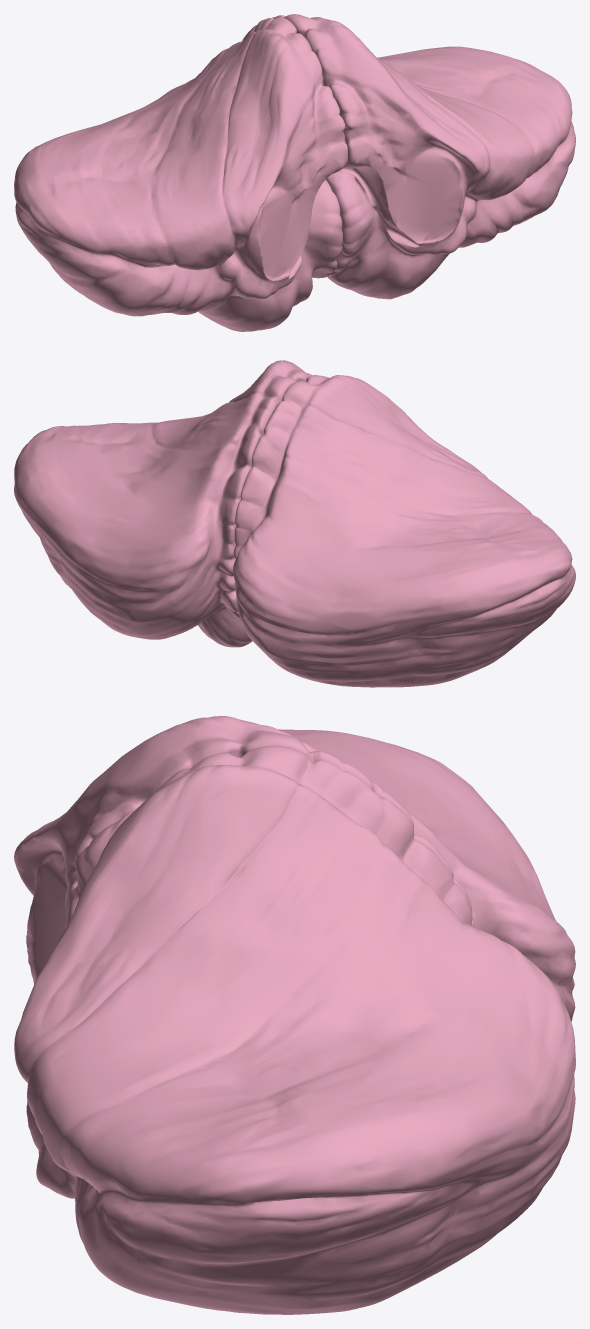
Rendered from cerebellum.glb.
The picture shows the model from 3 angles, top to bottom: view 1: azimuth 30°, elevation 25°; view 2: azimuth 150°, elevation 25°; view 3: azimuth 270°, elevation 25°; orthographic projection. The views are drawn at different scales.
Parts seen in each view (by area): view 1: grp1; view 2: grp1; view 3: grp1.
Boxes of the visible parts, x1,y1,x2,y2 form: grp1: (14, 14, 575, 331); grp1: (14, 360, 575, 687); grp1: (14, 716, 575, 1314).
Size of the model in its own units: 0.1065 by 0.0533 by 0.0563.
